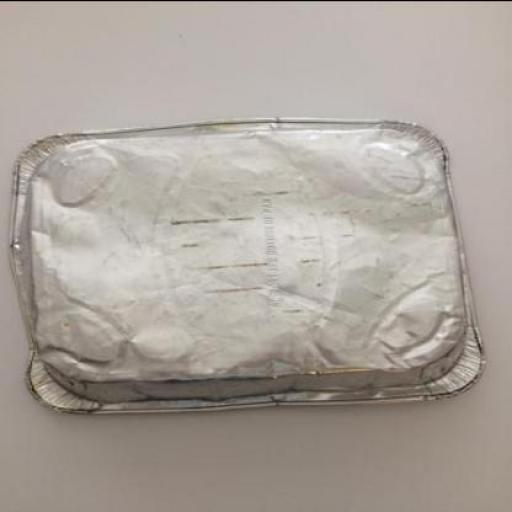metal: (8, 112, 490, 416)
